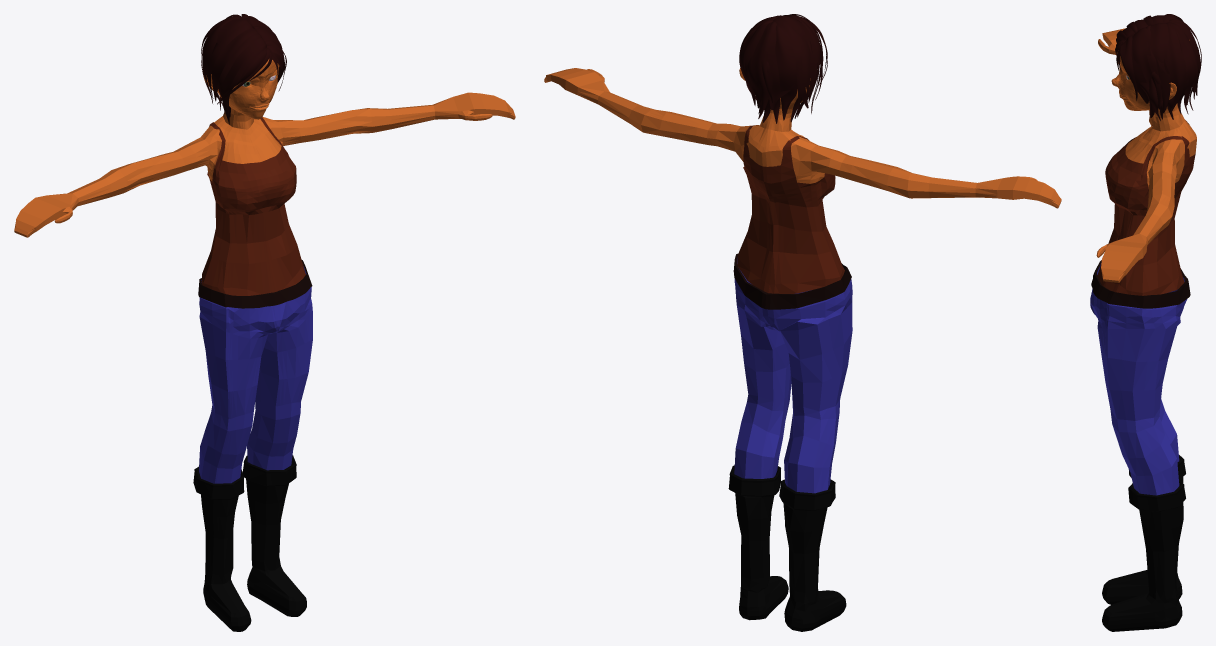
File: correr_000001.obj
3 renders of one model, left to right at view 1: azimuth 30°, elevation 25°; view 2: azimuth 150°, elevation 25°; view 3: azimuth 270°, elevation 25°, orthographic. The views are drawn at different scales.
Parts seen in each view (by area): view 1: body_Cylinder.002, pantalon_Cylinder.003, camiseta_Cylinder.001, hair; view 2: body_Cylinder.002, pantalon_Cylinder.003, camiseta_Cylinder.001, hair; view 3: body_Cylinder.002, pantalon_Cylinder.003, camiseta_Cylinder.001, hair.
Part boxes in pixels (x1,y1,x2,y2): body_Cylinder.002: (14, 59, 515, 631); pantalon_Cylinder.003: (198, 260, 312, 483); camiseta_Cylinder.001: (201, 117, 305, 295); hair: (201, 14, 286, 124); body_Cylinder.002: (544, 68, 1061, 631); pantalon_Cylinder.003: (733, 253, 852, 493); camiseta_Cylinder.001: (737, 125, 844, 293); hair: (739, 14, 827, 123); body_Cylinder.002: (1096, 28, 1196, 631); pantalon_Cylinder.003: (1090, 260, 1190, 495); camiseta_Cylinder.001: (1097, 120, 1195, 295); hair: (1115, 14, 1201, 120).
Bounding box in the file's own units: 6.2 × 6.98 × 1.18.
